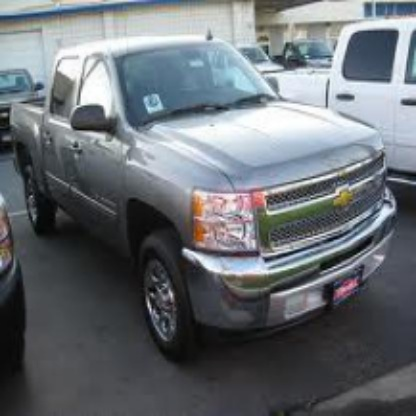Vehicle: (13, 45, 397, 365)
